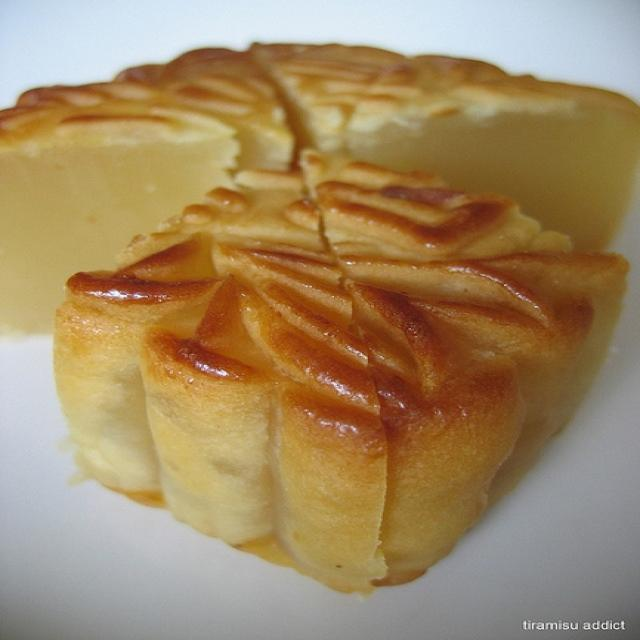蛋糕甜品: (27, 21, 590, 584)
